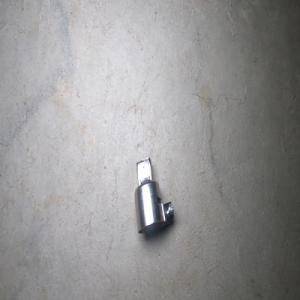MetalPart: (134, 156, 174, 234)
